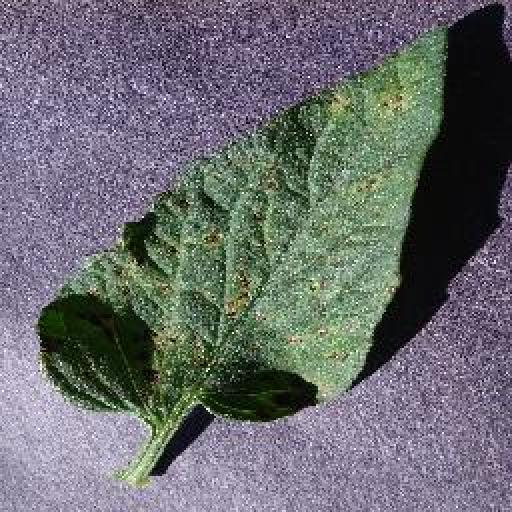Septoria: (36, 22, 448, 426)
